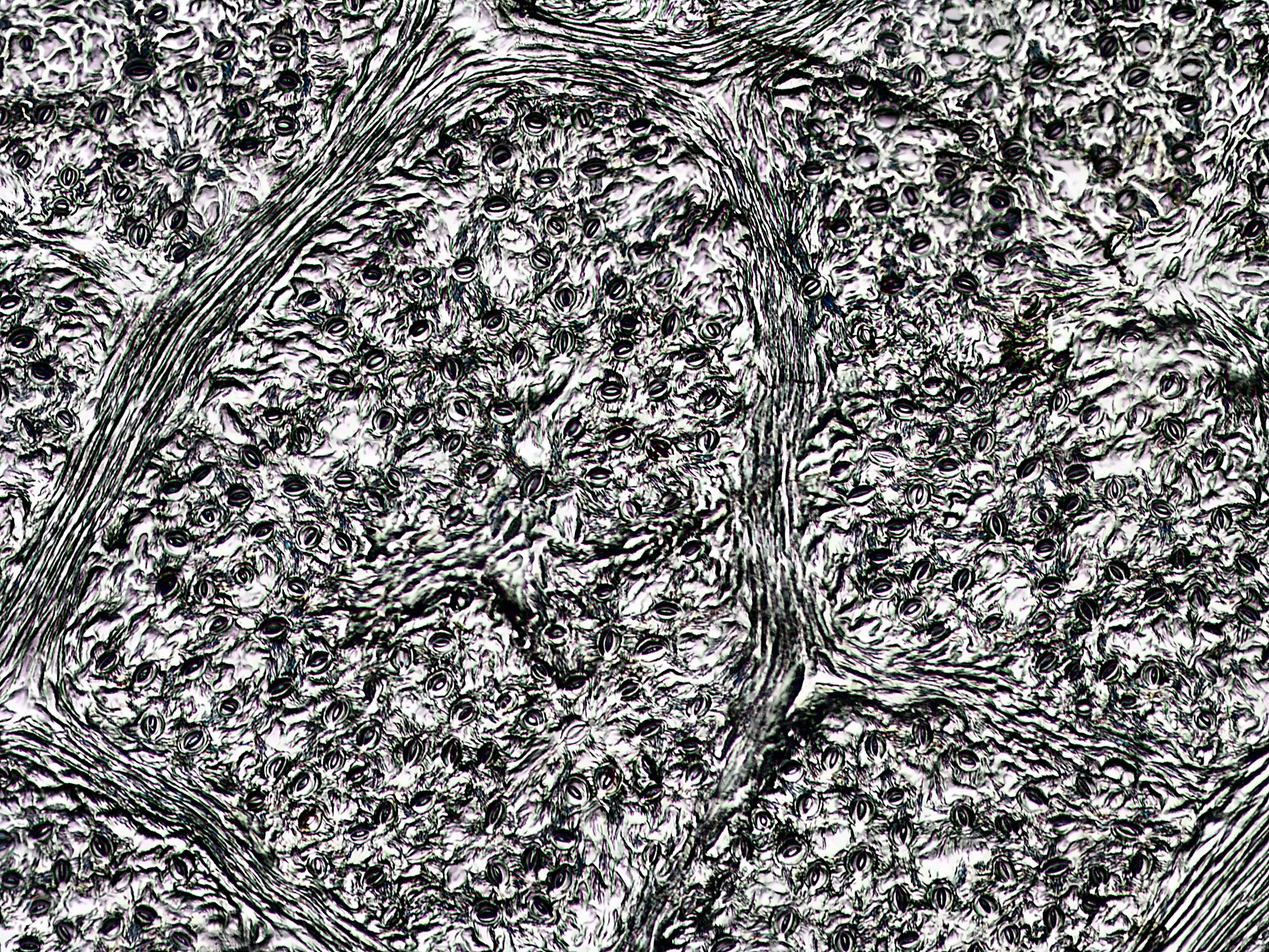stomata: (594, 762, 623, 796), (982, 27, 1014, 57), (423, 669, 453, 699), (891, 816, 916, 852), (354, 722, 383, 753), (448, 698, 479, 727), (178, 727, 211, 754), (771, 905, 797, 939), (794, 791, 823, 821), (526, 892, 557, 920), (257, 617, 293, 641), (634, 638, 670, 662), (400, 736, 426, 769), (140, 707, 165, 741), (487, 144, 518, 171), (850, 791, 873, 827), (598, 625, 623, 658), (1163, 413, 1188, 446), (645, 434, 675, 461), (1159, 371, 1186, 401), (866, 445, 901, 468), (805, 859, 830, 891), (482, 194, 511, 221), (776, 837, 806, 863), (325, 697, 350, 728), (888, 885, 913, 916), (912, 717, 935, 750), (153, 570, 180, 598), (564, 775, 591, 803), (830, 924, 857, 952), (905, 480, 931, 509), (391, 642, 415, 673), (426, 631, 458, 654), (295, 806, 323, 832), (932, 881, 954, 914), (439, 738, 462, 769), (865, 730, 887, 762), (165, 527, 191, 554), (559, 674, 592, 695), (533, 168, 563, 191), (971, 427, 994, 457), (326, 369, 357, 391), (604, 428, 635, 450), (824, 741, 846, 772), (483, 309, 510, 334), (510, 341, 535, 368), (374, 405, 399, 432), (1016, 457, 1043, 482), (847, 847, 872, 874), (89, 98, 113, 126), (1072, 774, 1100, 798), (7, 328, 36, 351), (847, 482, 876, 505), (939, 49, 974, 68), (163, 205, 189, 230), (562, 721, 588, 746), (955, 746, 981, 771), (522, 470, 545, 498), (953, 386, 981, 409), (203, 614, 235, 634), (1042, 858, 1074, 878), (323, 316, 352, 338), (409, 790, 438, 812), (1168, 543, 1190, 572), (998, 919, 1020, 948), (122, 60, 152, 81), (130, 218, 151, 248), (556, 327, 577, 357), (686, 693, 711, 718), (364, 349, 390, 373), (297, 523, 321, 549), (291, 771, 315, 797), (1195, 655, 1221, 679), (233, 562, 256, 589), (1075, 596, 1098, 623), (1019, 786, 1046, 809), (867, 578, 898, 598), (282, 477, 310, 499), (474, 740, 496, 768), (890, 398, 918, 420), (986, 512, 1008, 540), (585, 466, 614, 487), (649, 602, 681, 621), (572, 107, 596, 132), (578, 159, 608, 179), (133, 662, 157, 687), (486, 861, 511, 885), (363, 674, 383, 704), (1098, 659, 1123, 683), (1200, 445, 1224, 470), (952, 802, 976, 827), (283, 576, 309, 599), (374, 801, 397, 827), (470, 459, 496, 482), (979, 612, 1005, 635), (175, 151, 202, 173), (523, 112, 550, 134), (549, 864, 571, 891), (483, 801, 505, 828), (1133, 32, 1155, 59), (912, 557, 934, 584), (1198, 620, 1225, 642), (1240, 219, 1267, 241), (778, 761, 805, 783), (976, 80, 997, 108), (1043, 905, 1064, 933), (1143, 661, 1163, 690), (695, 428, 719, 452), (698, 388, 722, 412), (996, 811, 1020, 835), (265, 753, 288, 778), (446, 396, 471, 419), (1081, 403, 1106, 426), (609, 339, 635, 361), (362, 490, 388, 512), (91, 832, 113, 858), (169, 929, 195, 951), (1128, 403, 1147, 433), (442, 355, 463, 382), (896, 930, 923, 951), (908, 65, 928, 93), (935, 456, 963, 476), (1211, 505, 1231, 533), (733, 834, 753, 862), (453, 259, 477, 282), (409, 318, 432, 342), (96, 649, 119, 673), (134, 901, 157, 925), (972, 892, 996, 915), (811, 78, 835, 101), (996, 855, 1015, 884), (268, 36, 293, 58), (190, 465, 215, 487), (182, 656, 207, 678), (324, 748, 346, 773), (111, 866, 133, 891), (900, 596, 925, 618), (1236, 604, 1261, 626), (1144, 586, 1169, 608), (298, 290, 324, 311), (305, 650, 331, 671), (799, 163, 825, 184), (1106, 478, 1127, 504), (556, 283, 576, 310), (550, 828, 577, 848), (843, 74, 870, 94), (980, 362, 1007, 382), (920, 374, 947, 394), (490, 404, 518, 423), (56, 409, 79, 432), (240, 445, 263, 468), (442, 148, 464, 172), (545, 215, 569, 237), (408, 408, 432, 430), (268, 677, 292, 699), (1180, 60, 1204, 82), (753, 808, 775, 832), (212, 39, 237, 60), (159, 477, 184, 498), (217, 695, 242, 716), (1120, 331, 1145, 352), (226, 487, 252, 507), (18, 416, 37, 443), (626, 119, 653, 138), (663, 311, 682, 338), (27, 822, 54, 841), (543, 624, 570, 643), (636, 719, 663, 738), (1031, 60, 1054, 82), (1235, 553, 1257, 576), (1187, 584, 1209, 607), (394, 227, 415, 251), (168, 856, 189, 880), (474, 902, 498, 923), (520, 708, 544, 729), (29, 363, 54, 383), (632, 145, 657, 165), (195, 578, 215, 603), (445, 431, 465, 456), (1002, 143, 1027, 163), (1095, 156, 1120, 176), (1050, 349, 1075, 369), (1034, 539, 1059, 559), (881, 785, 906, 805), (954, 568, 973, 594), (249, 523, 276, 541), (884, 519, 911, 537), (583, 217, 604, 240), (331, 531, 352, 554), (362, 866, 385, 887), (682, 541, 705, 562), (494, 691, 517, 712), (1116, 188, 1137, 211), (1151, 497, 1174, 518), (59, 165, 79, 189), (616, 680, 640, 700), (1050, 388, 1070, 412), (928, 622, 952, 642), (1030, 612, 1054, 632), (1031, 506, 1055, 526), (709, 937, 741, 952), (599, 383, 624, 402), (982, 250, 1007, 269), (1020, 292, 1039, 317), (830, 462, 855, 481), (261, 407, 287, 425), (531, 248, 553, 269), (1194, 710, 1216, 731), (618, 314, 641, 334), (198, 506, 221, 526), (444, 504, 467, 524), (1099, 35, 1119, 58), (1107, 561, 1127, 584), (522, 844, 539, 871), (868, 548, 895, 565), (181, 70, 200, 94), (52, 196, 76, 215), (633, 753, 652, 777), (1099, 101, 1118, 125), (1065, 464, 1090, 482), (1072, 699, 1097, 717), (1038, 578, 1064, 595), (1038, 651, 1059, 672), (275, 116, 297, 136), (361, 267, 383, 287), (685, 349, 707, 369), (621, 498, 641, 520), (1128, 66, 1148, 88), (411, 268, 434, 287), (609, 278, 628, 301), (878, 30, 901, 49), (949, 186, 968, 209), (955, 275, 978, 294), (638, 787, 667, 802), (334, 469, 358, 487), (53, 860, 69, 887), (29, 899, 53, 917), (643, 839, 661, 863), (1172, 5, 1196, 23), (1176, 96, 1200, 114), (592, 585, 617, 602), (114, 183, 134, 204), (384, 466, 404, 487), (909, 234, 930, 254), (930, 426, 951, 446), (277, 72, 299, 91), (118, 151, 140, 170), (57, 921, 76, 943), (832, 216, 851, 238), (1012, 375, 1034, 394), (236, 96, 254, 119), (166, 241, 189, 259), (292, 424, 310, 447), (565, 416, 583, 439), (659, 492, 682, 510), (466, 111, 483, 135), (678, 738, 705, 753), (149, 3, 169, 23), (102, 918, 122, 938), (647, 378, 667, 398), (309, 856, 328, 877), (868, 198, 890, 216), (653, 269, 673, 288), (688, 764, 707, 784), (531, 661, 550, 681), (960, 128, 980, 147), (1214, 33, 1234, 52), (37, 102, 55, 123), (381, 904, 399, 925), (988, 189, 1006, 210), (0, 296, 22, 313), (53, 296, 75, 313), (1083, 894, 1102, 913), (937, 164, 957, 182), (857, 325, 875, 345), (1064, 495, 1084, 513), (245, 792, 266, 809), (0, 871, 21, 888), (347, 767, 369, 783), (803, 276, 819, 298), (1171, 145, 1193, 161), (635, 242, 654, 260), (1066, 660, 1084, 679), (701, 321, 722, 337), (896, 321, 917, 337), (1120, 694, 1142, 709), (16, 939, 41, 952), (14, 151, 32, 169), (240, 138, 259, 154), (350, 827, 370, 842), (904, 187, 919, 206), (810, 120, 827, 136), (20, 33, 34, 52), (1090, 865, 1103, 885), (1048, 121, 1064, 137), (1253, 35, 1266, 53), (1126, 0, 1143, 12)
